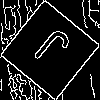J: (25, 25, 73, 77)
